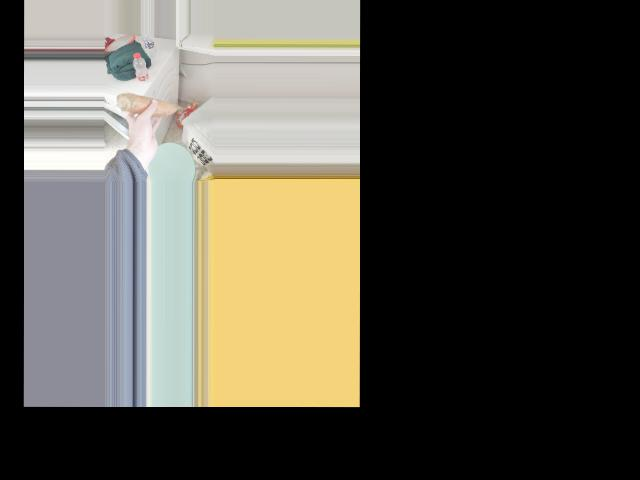sweet_potato: (116, 98, 179, 114)
